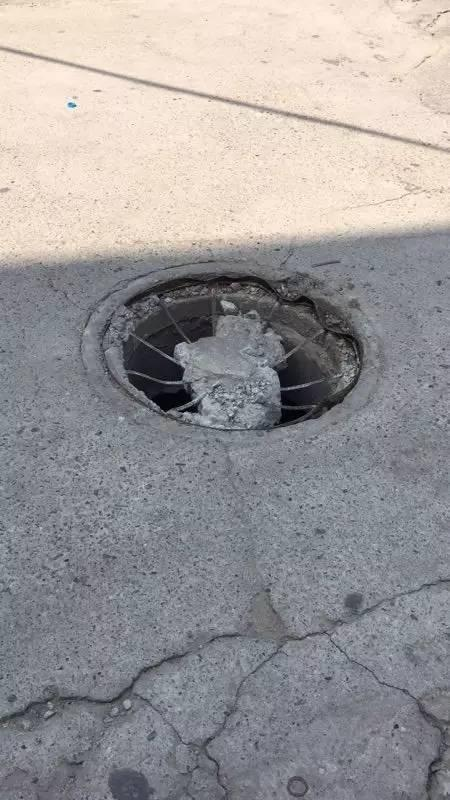wellcover: (99, 248, 390, 448)
